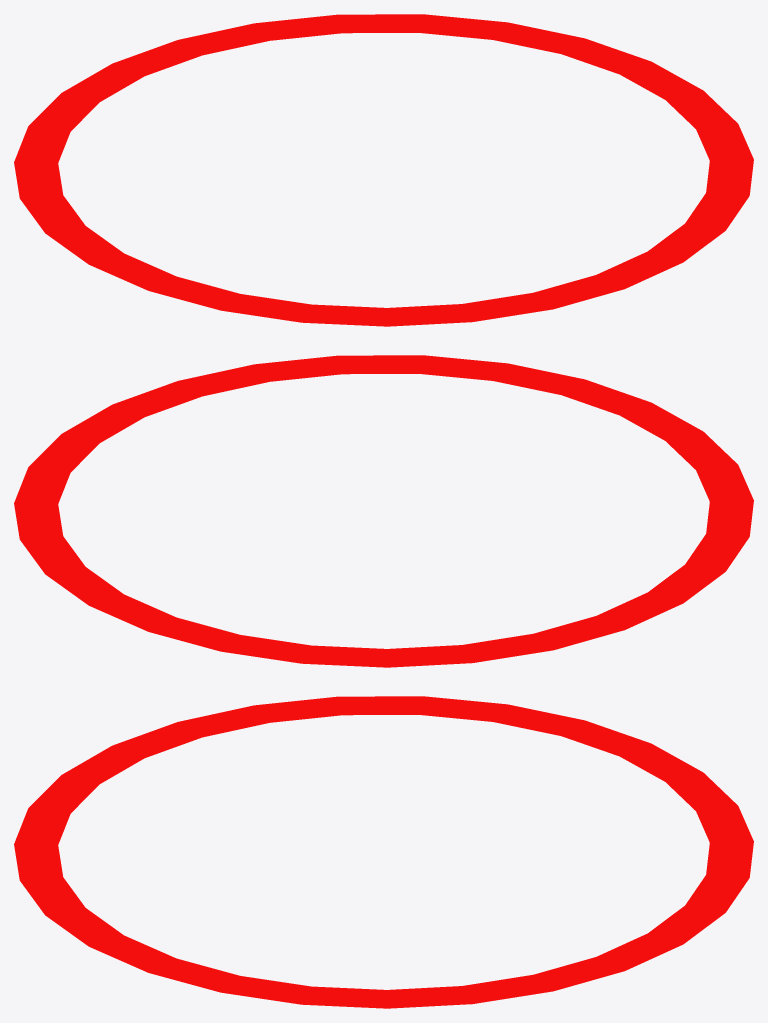
The model's file is Yeheofau-340Ring5.gltf.
3 renders of one model, top to bottom at view 1: azimuth 30°, elevation 25°; view 2: azimuth 150°, elevation 25°; view 3: azimuth 270°, elevation 25°, orthographic.
Bounding box in the file's own units: 234 × 0 × 234.
